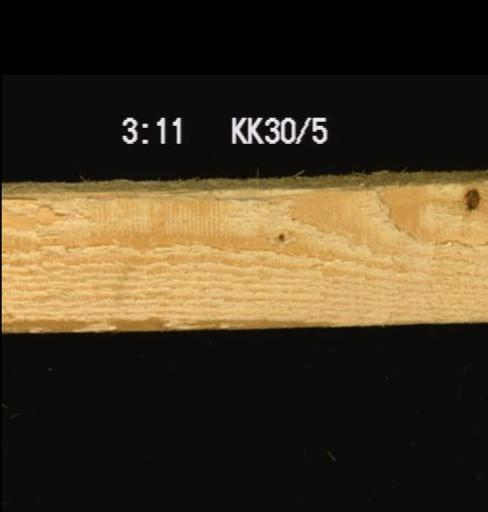dry_knot: (459, 183, 481, 212)
small_knot: (274, 227, 287, 246)
wave: (5, 172, 305, 199)
